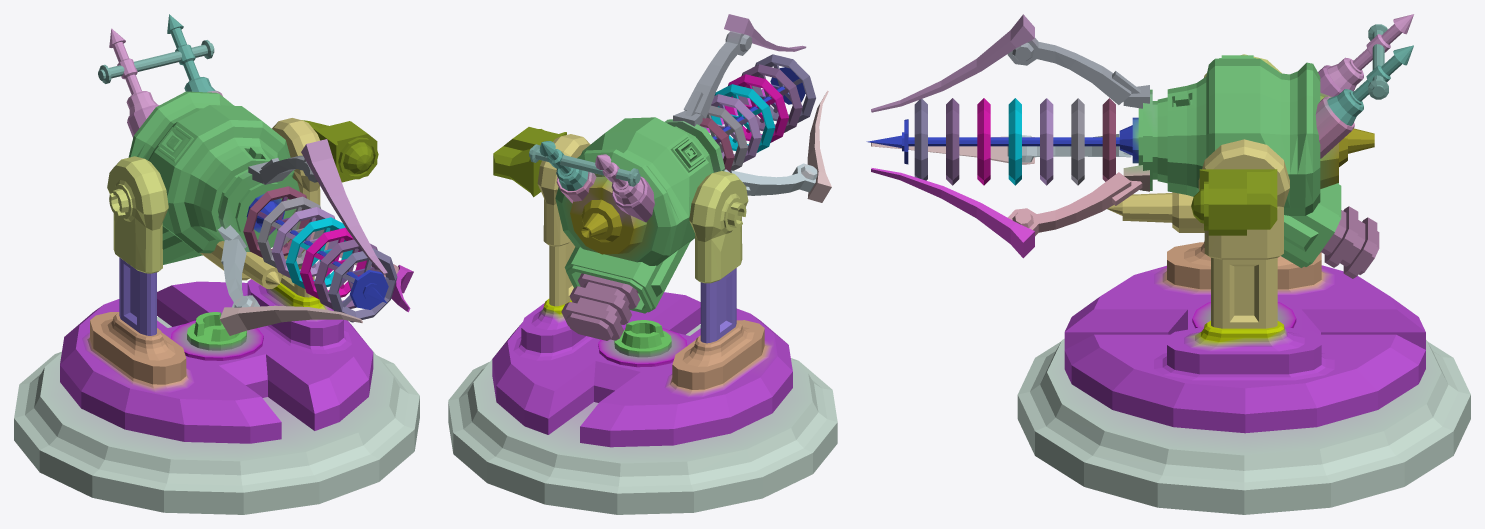
The picture shows the model from 3 angles, left to right: view 1: azimuth 30°, elevation 25°; view 2: azimuth 150°, elevation 25°; view 3: azimuth 270°, elevation 25°; orthographic projection. The views are drawn at different scales.
Visible parts, largest first — view 1: world; view 2: world; view 3: world.
Part boxes in pixels (x1,y1,x2,y2): world: [14, 14, 419, 514]; world: [448, 14, 837, 514]; world: [866, 14, 1470, 514].
Bounding box in the file's own units: 0.7493 × 0.7286 × 1.
